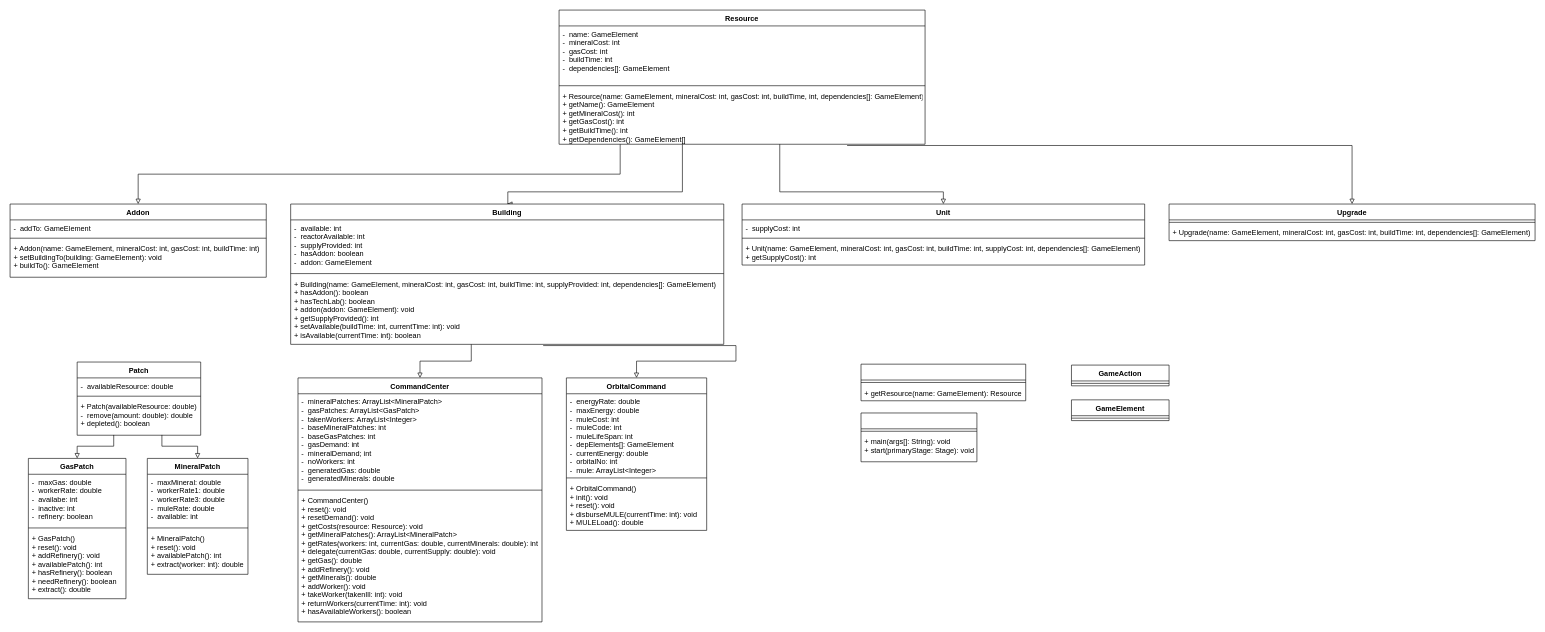
The diagram is 1545 pixels wide and 632 high, and some of its shapes have lost their labels. The box of each missing label's shape, as (x1, y1, x2, y2) in pixels:
AlphaCraft: (860, 412, 977, 462)
ResourceHandler: (860, 364, 1026, 401)
